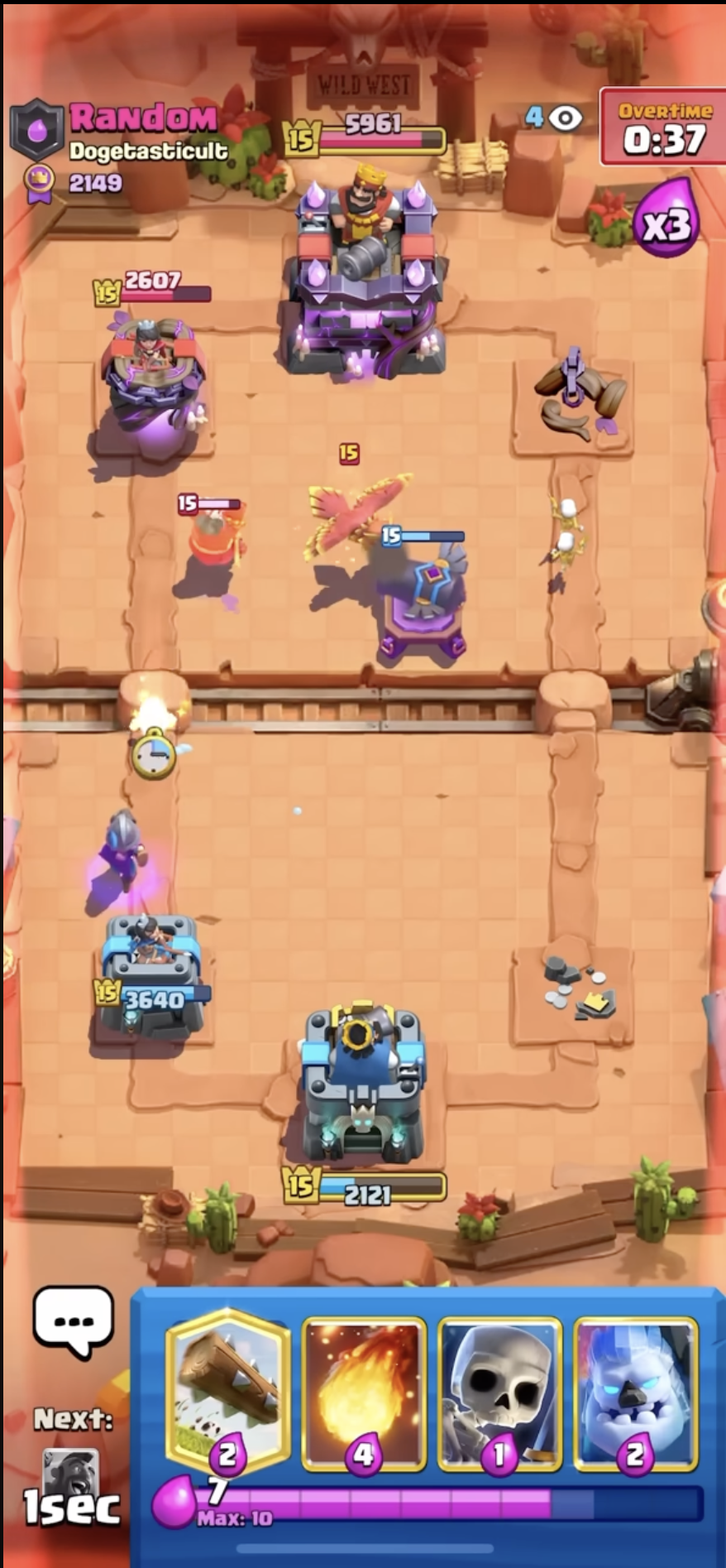evo-cannon: (358, 511, 475, 676)
evo-musketeer: (78, 798, 174, 897)
skeleton: (540, 519, 588, 570), (551, 494, 586, 541)
